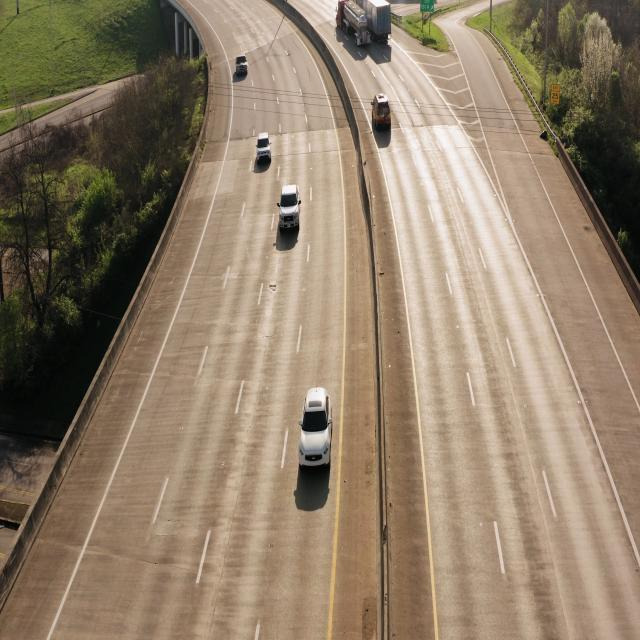Car: (300, 381, 334, 476), (336, 0, 371, 49), (277, 183, 302, 241), (372, 88, 393, 133), (254, 129, 273, 172), (235, 53, 249, 81)
